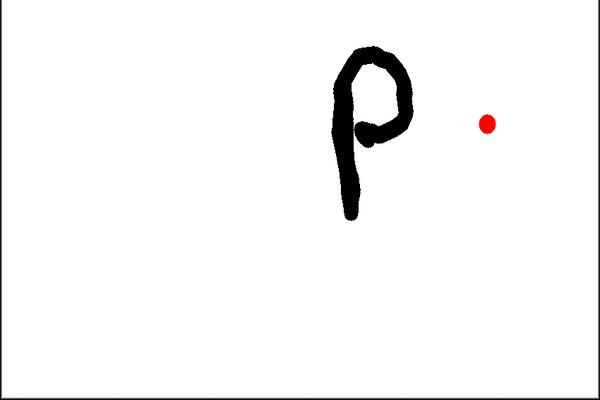P: (319, 36, 422, 226)
